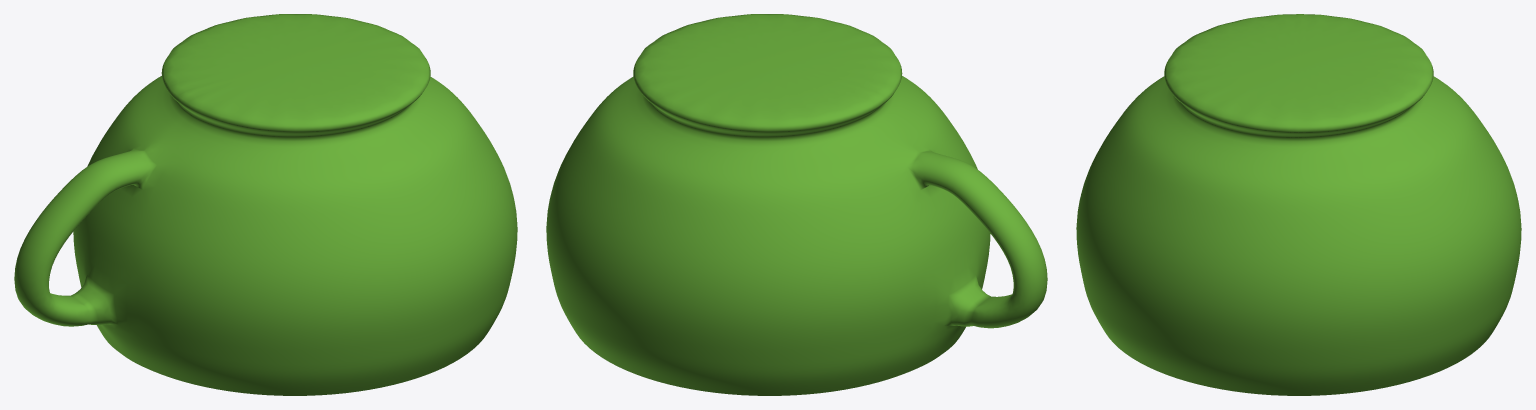
Rendered from mugBush_3 (1).fbx.
The picture shows the model from 3 angles, left to right: view 1: azimuth 30°, elevation 25°; view 2: azimuth 150°, elevation 25°; view 3: azimuth 270°, elevation 25°; orthographic projection.
Visible parts, largest first — view 1: Cylinder; view 2: Cylinder; view 3: Cylinder.
Boxes of the visible parts, box(x1,y1,x2,y2) form: Cylinder: box(14, 14, 517, 395); Cylinder: box(546, 14, 1047, 395); Cylinder: box(1076, 14, 1521, 395).
Size of the model in its own units: 477 by 243 by 392.
